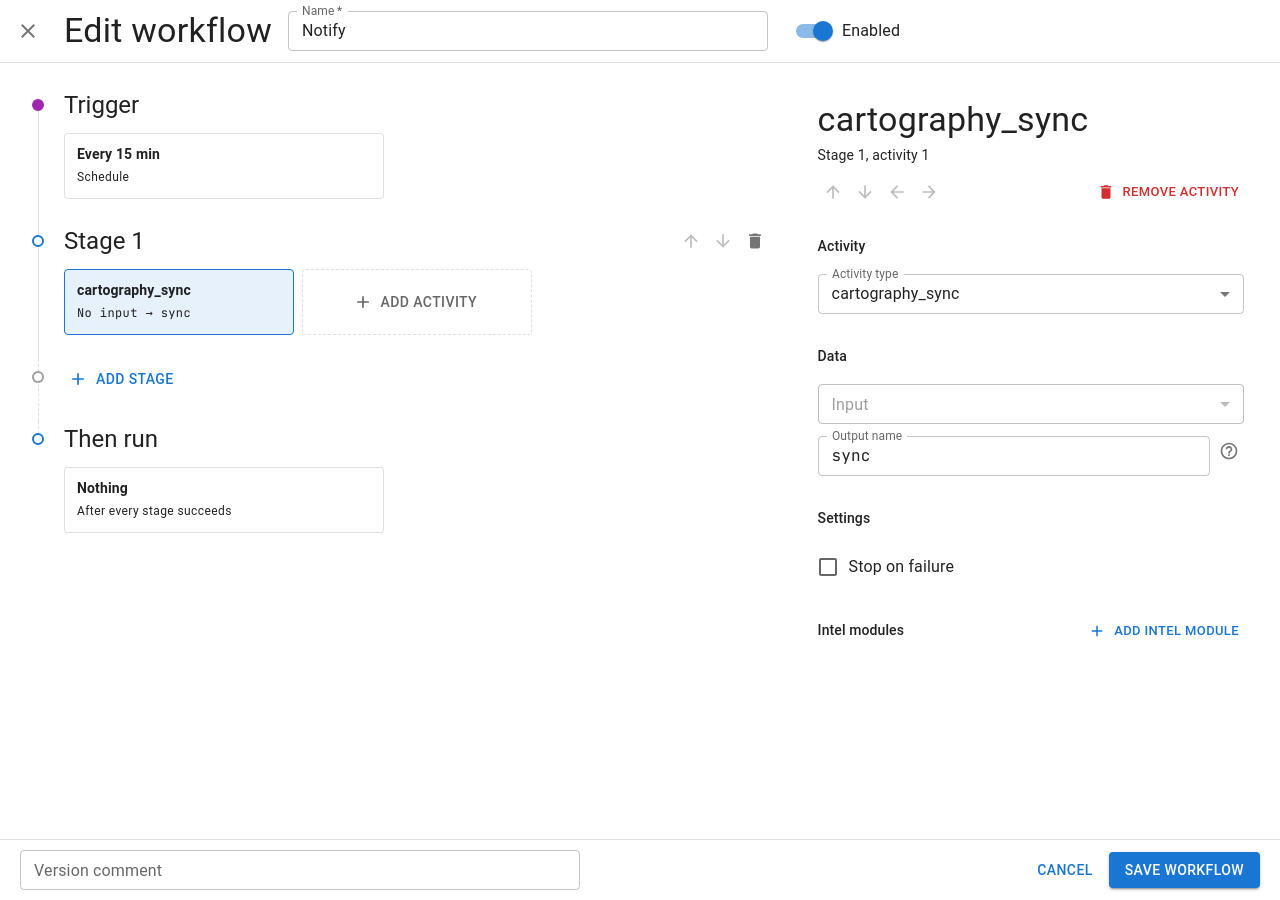
requires at least one intel module when the field is required
Click the button "Save workflow" at {"x": 1184, "y": 870}, box [1109, 852, 1260, 888]
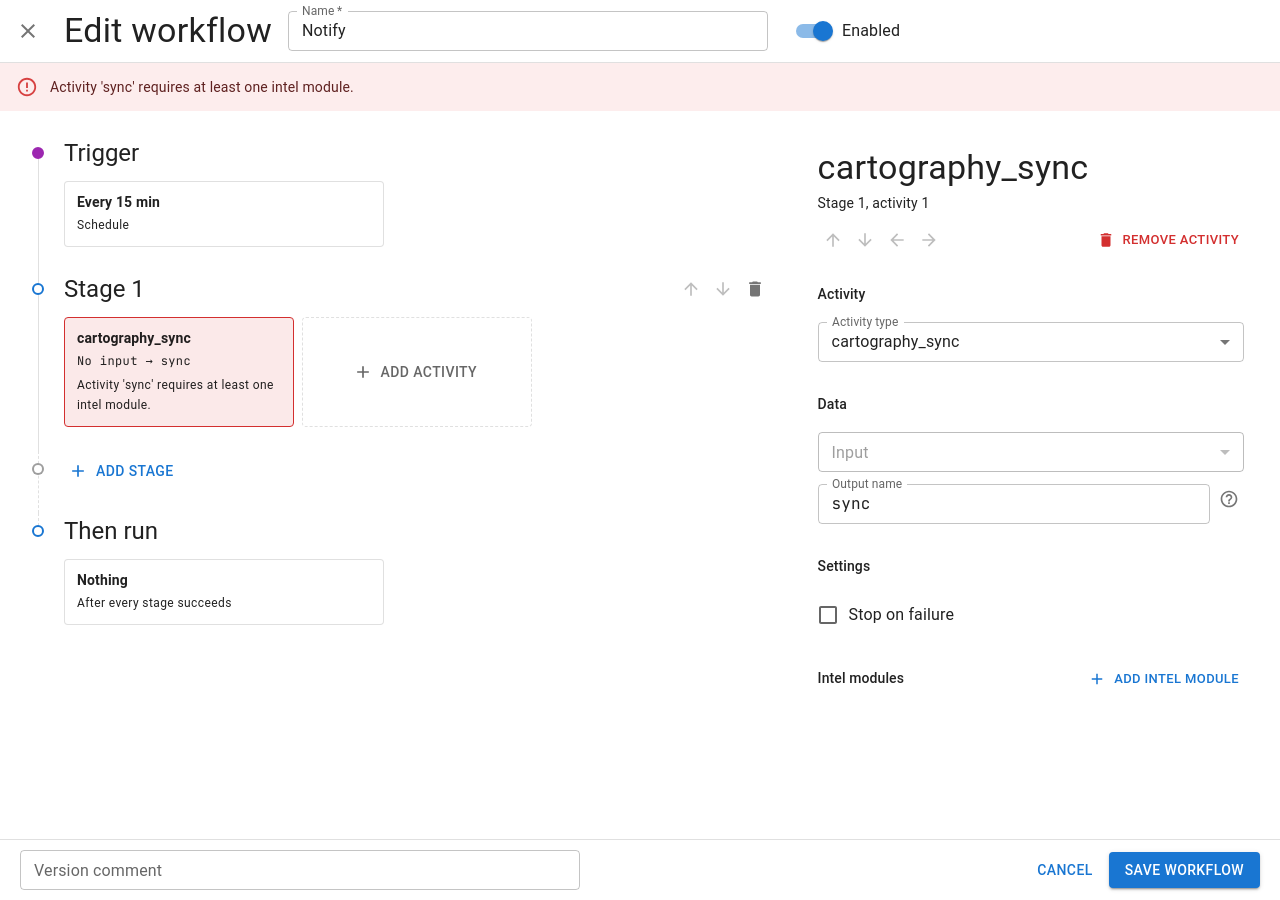
Now the message reads "Activity 'sync' requires at least one intel module.", box [50, 79, 354, 95]
